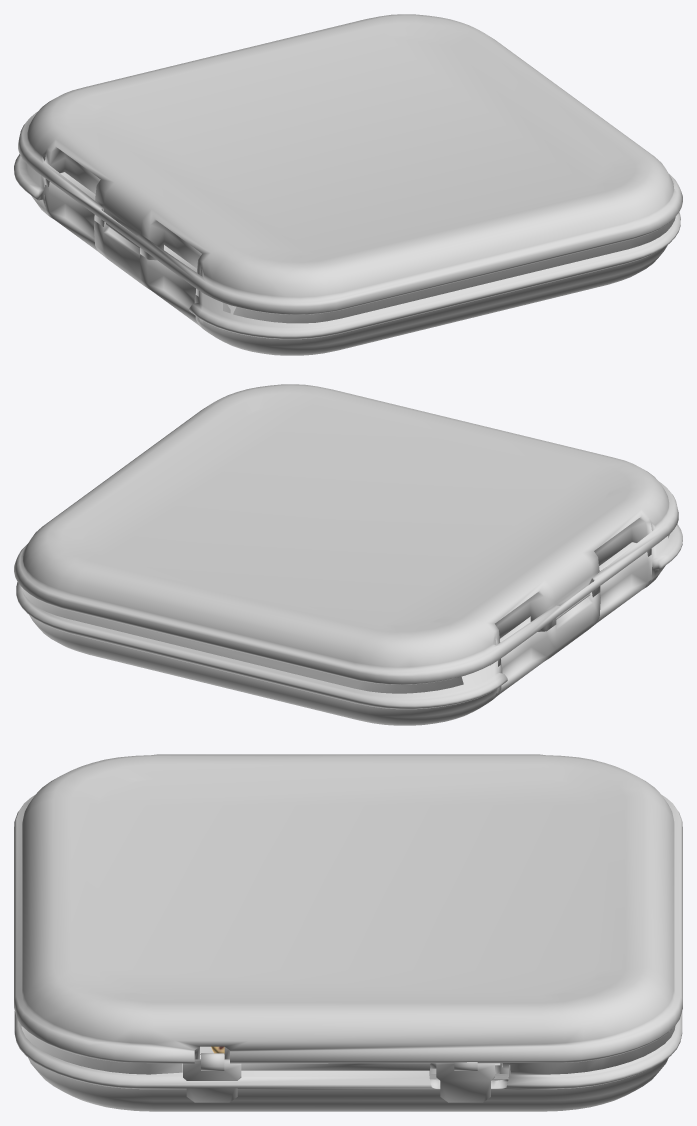
Rendered from plaid-junk-nails.glb.
The picture shows the model from 3 angles, top to bottom: view 1: azimuth 30°, elevation 25°; view 2: azimuth 150°, elevation 25°; view 3: azimuth 270°, elevation 25°; orthographic projection. The views are drawn at different scales.
Visible parts, largest first — view 1: case; view 2: case; view 3: case.
Part boxes in pixels (x1,y1,x2,y2): case: (14,14,682,355); case: (14,384,682,725); case: (14,754,682,1111).
Bounding box in the file's own units: 0.8439 × 0.1513 × 0.8443.
Materials: 2 (1 with a texture image).
